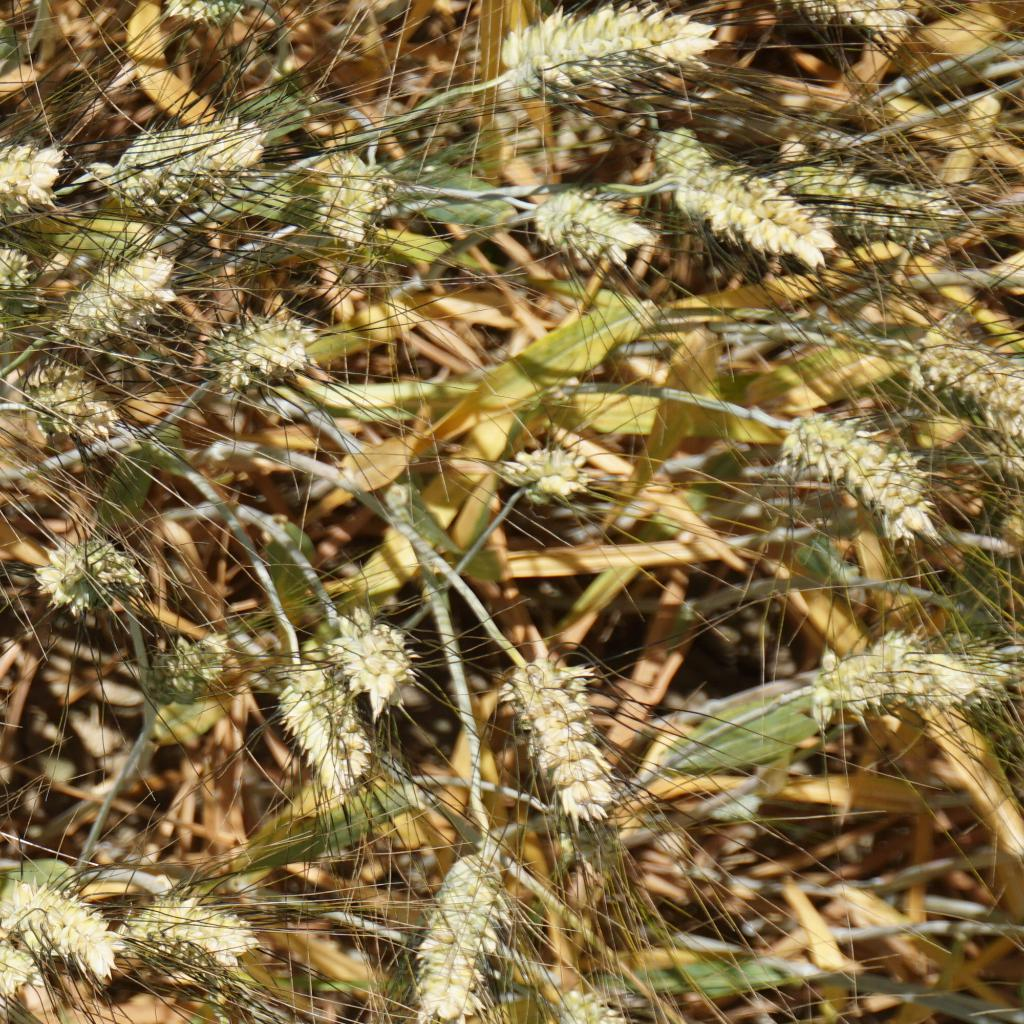0-0: (478, 0, 742, 90), (657, 154, 821, 280), (411, 835, 519, 1024), (508, 649, 615, 823), (811, 619, 975, 723), (787, 406, 939, 517), (792, 147, 949, 252), (269, 664, 371, 809), (117, 896, 263, 985), (915, 314, 1024, 432), (519, 184, 645, 286), (30, 533, 161, 626), (117, 120, 254, 203), (205, 301, 320, 399), (66, 235, 168, 344), (327, 606, 429, 707), (5, 879, 113, 973), (30, 358, 117, 455), (526, 799, 635, 875), (514, 433, 600, 519), (301, 156, 376, 246), (642, 100, 721, 177), (156, 619, 230, 700), (552, 969, 651, 1024), (0, 115, 56, 205), (0, 237, 38, 327)
